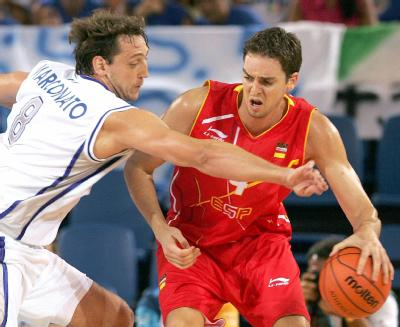basketball: (318, 247, 390, 320)
